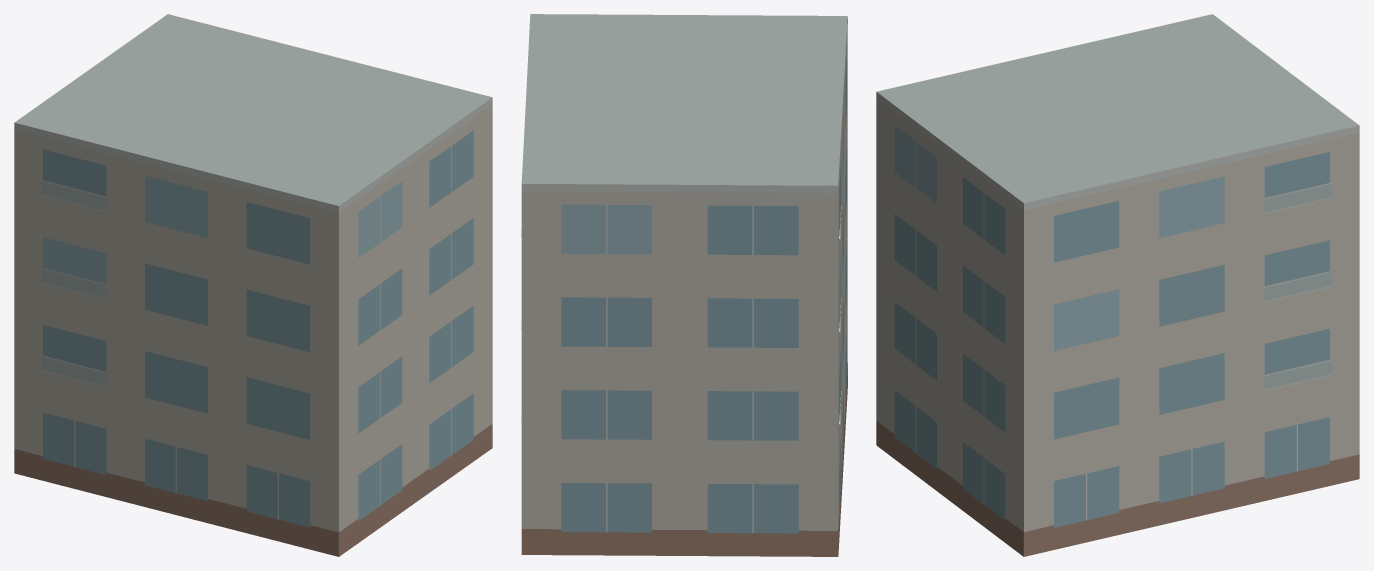
Rendered from survey-upis-32722795.glb.
3 renders of one model, left to right at view 1: azimuth 30°, elevation 25°; view 2: azimuth 150°, elevation 25°; view 3: azimuth 270°, elevation 25°, orthographic. The views are drawn at different scales.
Visible parts, largest first — view 1: survey-upis-32722795.tmp; view 2: survey-upis-32722795.tmp; view 3: survey-upis-32722795.tmp.
Part boxes in pixels (bbox=[...]): survey-upis-32722795.tmp: bbox=[14, 14, 492, 556]; survey-upis-32722795.tmp: bbox=[521, 14, 847, 556]; survey-upis-32722795.tmp: bbox=[876, 14, 1359, 556].
Bounding box in the file's own units: 14.01 × 12.2 × 15.12.
